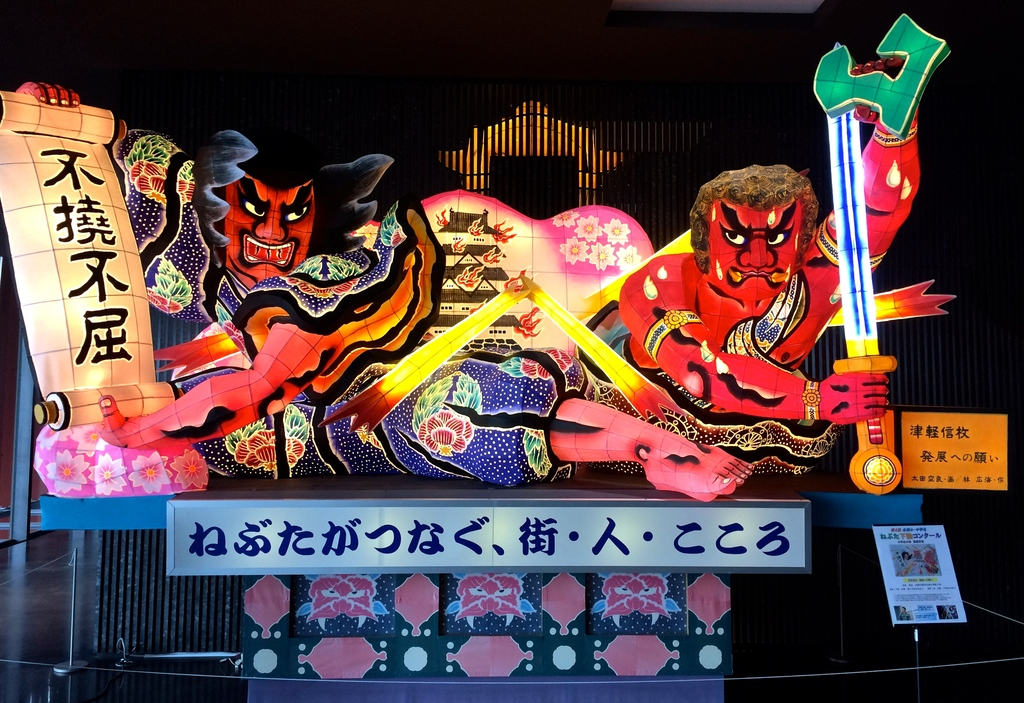face: (210, 156, 320, 271)
